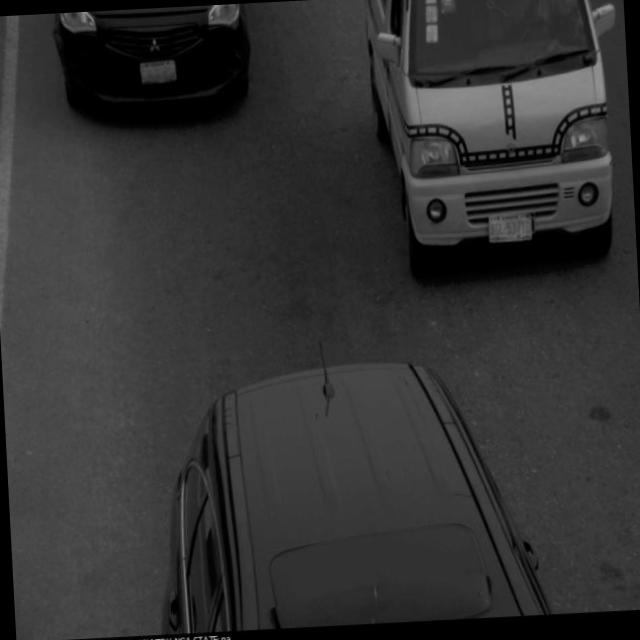person_with_seatbelt: (484, 0, 565, 56)
